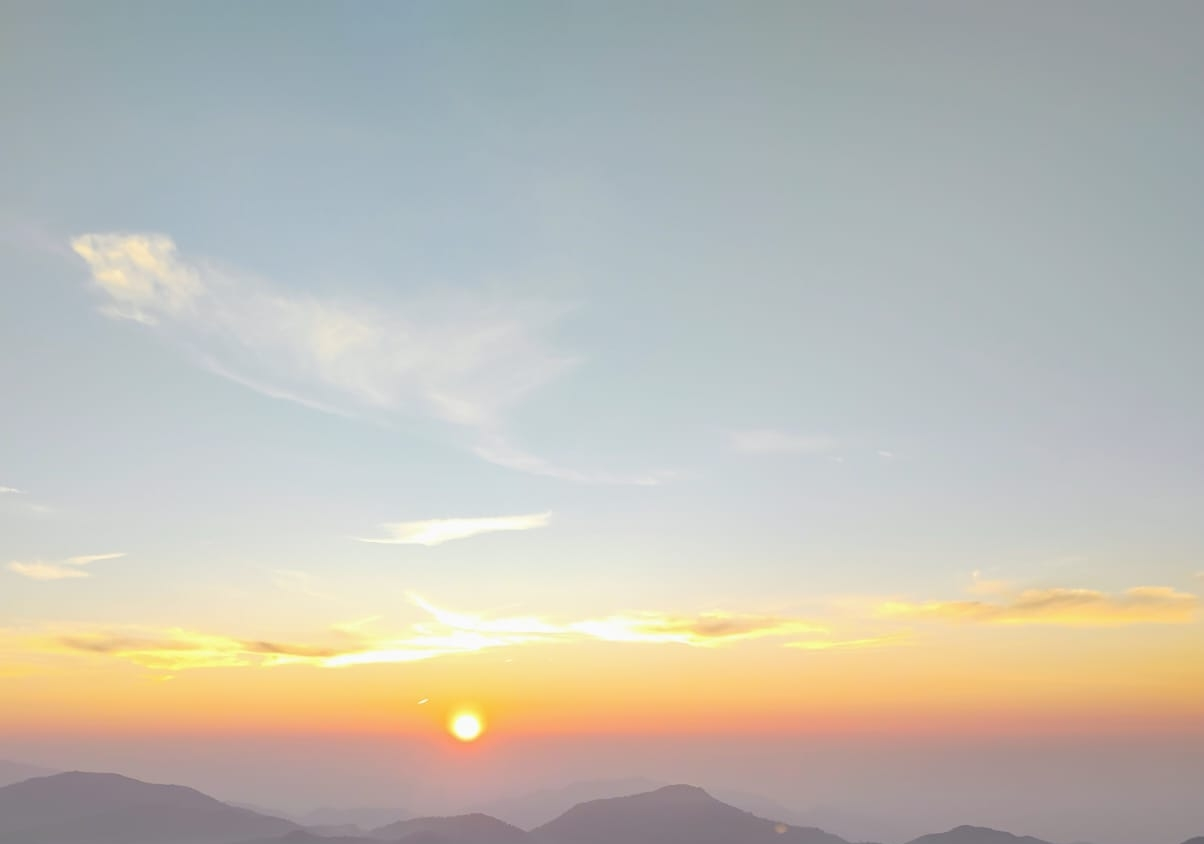sun: (446, 709, 488, 742)
